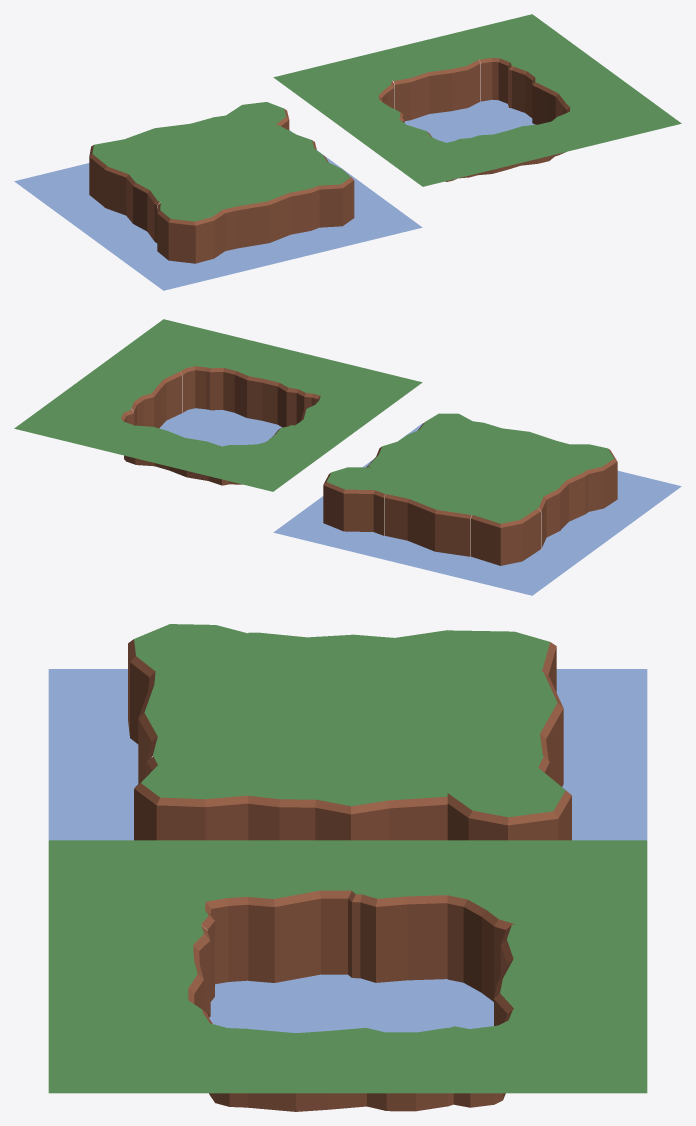
The model's file is LandAndSea.glb.
The picture shows the model from 3 angles, top to bottom: view 1: azimuth 30°, elevation 25°; view 2: azimuth 150°, elevation 25°; view 3: azimuth 270°, elevation 25°; orthographic projection. The views are drawn at different scales.
Parts seen in each view (by area): view 1: LAND-2, WATER-8, LAND-1, LAND-4, LAND-3, WATER-9, WATER-6, LAND-7, LAND-5, WATER-7, WATER-3, WATER-1 (+6 smaller); view 2: LAND-8, WATER-2, LAND-7, LAND-9, LAND-4, WATER-6, WATER-3, LAND-1, WATER-1, LAND-5, WATER-9, WATER-7 (+6 smaller); view 3: WATER-4, WATER-7, WATER-1, LAND-6, WATER-3, LAND-5, WATER-9, LAND-8, LAND-2, WATER-6, WATER-2, WATER-8 (+6 smaller).
Boxes of the visible parts, left/top/right/bottom form: LAND-2: left=200, top=171, right=335, bottom=269; WATER-8: left=360, top=35, right=495, bottom=129; LAND-1: left=114, top=192, right=249, bottom=290; LAND-4: left=64, top=156, right=199, bottom=253; LAND-3: left=287, top=161, right=422, bottom=248; WATER-9: left=446, top=14, right=581, bottom=112; WATER-6: left=496, top=51, right=631, bottom=127; LAND-7: left=14, top=139, right=149, bottom=217; LAND-5: left=150, top=135, right=286, bottom=192; WATER-7: left=273, top=56, right=394, bottom=113; WATER-3: left=555, top=87, right=681, bottom=155; WATER-1: left=373, top=136, right=508, bottom=186; LAND-8: left=360, top=476, right=495, bottom=574; WATER-2: left=200, top=340, right=335, bottom=435; LAND-7: left=446, top=497, right=581, bottom=595; LAND-9: left=273, top=467, right=408, bottom=553; LAND-4: left=496, top=461, right=631, bottom=558; WATER-6: left=64, top=356, right=199, bottom=434; WATER-3: left=114, top=319, right=249, bottom=417; LAND-1: left=546, top=444, right=681, bottom=522; WATER-1: left=296, top=361, right=422, bottom=423; LAND-5: left=409, top=440, right=545, bottom=497; WATER-9: left=14, top=392, right=135, bottom=464; WATER-7: left=187, top=441, right=322, bottom=491; WATER-4: left=248, top=840, right=447, bottom=1006; WATER-7: left=447, top=840, right=647, bottom=1006; WATER-1: left=48, top=840, right=248, bottom=1006; LAND-6: left=248, top=756, right=447, bottom=840; WATER-3: left=48, top=1009, right=248, bottom=1107; LAND-5: left=248, top=672, right=447, bottom=755; WATER-9: left=447, top=1009, right=647, bottom=1107; LAND-8: left=447, top=672, right=647, bottom=837; LAND-2: left=48, top=672, right=248, bottom=837; WATER-6: left=248, top=1027, right=447, bottom=1111; WATER-2: left=48, top=924, right=248, bottom=1028; WATER-8: left=447, top=924, right=647, bottom=1028.
Size of the model in its own units: 6 by 0.4583 by 3.
